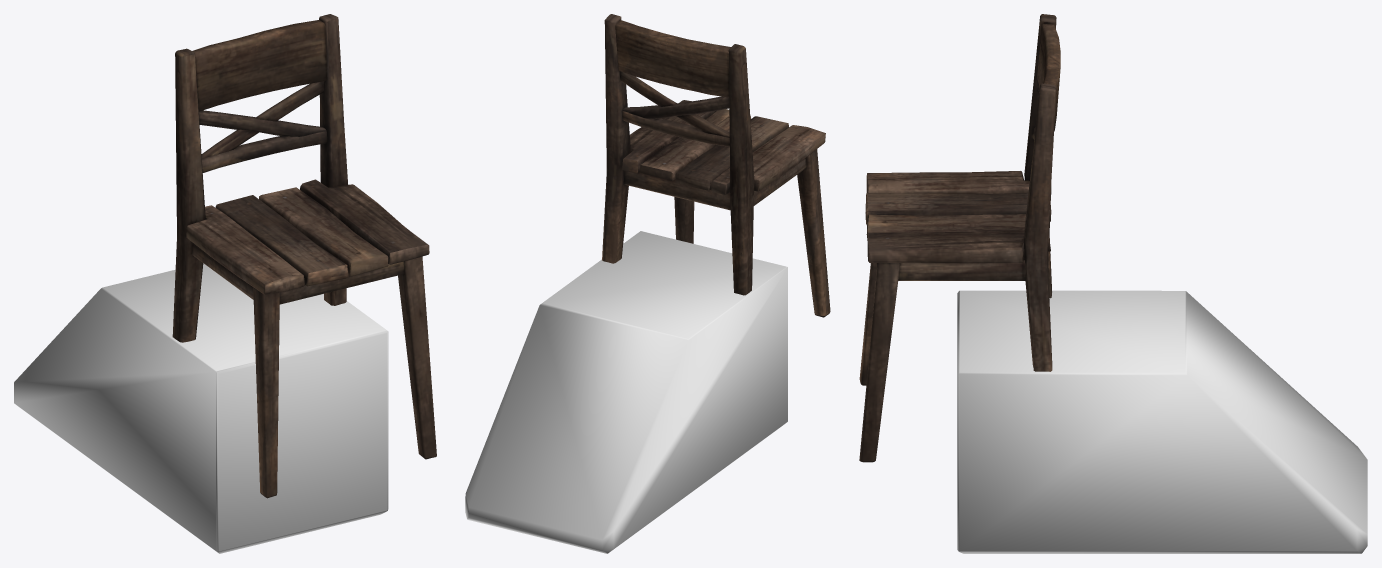
Rendered from SM_Chair_V2_.fbx.
3 renders of one model, left to right at view 1: azimuth 30°, elevation 25°; view 2: azimuth 150°, elevation 25°; view 3: azimuth 270°, elevation 25°, orthographic. The views are drawn at different scales.
Parts seen in each view (by area): view 1: SM_Chair_V2__ConvexHulls, SM_Chair_V2_; view 2: SM_Chair_V2__ConvexHulls, SM_Chair_V2_; view 3: SM_Chair_V2__ConvexHulls, SM_Chair_V2_.
Part boxes in pixels (bbox=[...]): SM_Chair_V2__ConvexHulls: bbox=[14, 263, 388, 553]; SM_Chair_V2_: bbox=[172, 14, 436, 498]; SM_Chair_V2__ConvexHulls: bbox=[465, 231, 787, 553]; SM_Chair_V2_: bbox=[602, 14, 830, 317]; SM_Chair_V2__ConvexHulls: bbox=[957, 290, 1367, 553]; SM_Chair_V2_: bbox=[859, 14, 1060, 462].
Size of the model in its own units: 0.4969 by 1.29 by 1.28.
